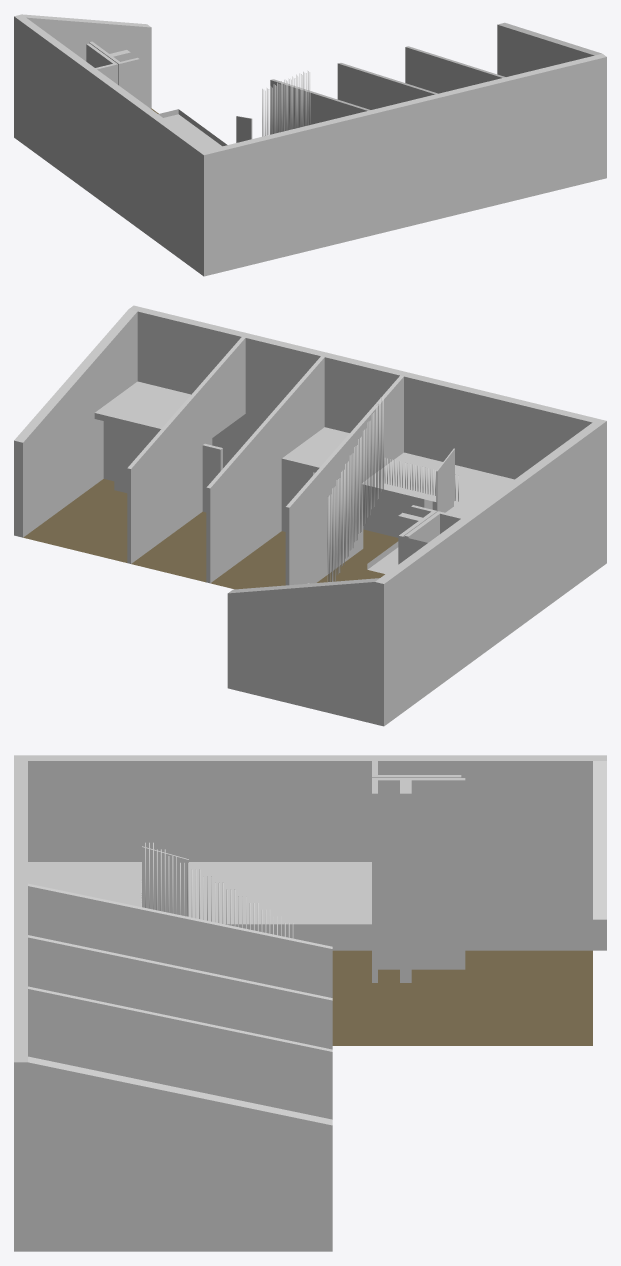
Rendered from haus_2glb.glb.
3 renders of one model, top to bottom at view 1: azimuth 30°, elevation 25°; view 2: azimuth 150°, elevation 25°; view 3: azimuth 270°, elevation 25°, orthographic. The views are drawn at different scales.
Parts seen in each view (by area): view 1: Plane.001, Cylinder.003; view 2: Plane.001, Plane.002, Cylinder.003, Cylinder.002; view 3: Plane.001, Plane.002, Cylinder.003.
Part boxes in pixels (box(x1,y1,x2,y2)): Plane.001: box(14, 14, 606, 276); Cylinder.003: box(262, 70, 310, 136); Plane.001: box(14, 305, 606, 726); Plane.002: box(23, 479, 398, 589); Cylinder.003: box(327, 395, 383, 581); Cylinder.002: box(384, 458, 458, 501); Plane.001: box(14, 755, 606, 1251); Plane.002: box(332, 950, 592, 1045); Cylinder.003: box(145, 842, 293, 938).
Size of the model in its own units: 5.04 by 1.64 by 4.11.
